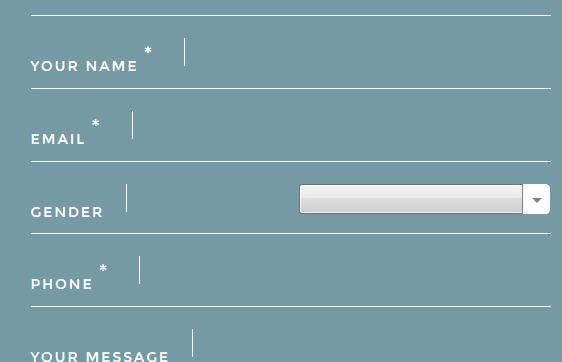field: (298, 183, 554, 216)
field_line: (27, 35, 553, 95), (26, 251, 551, 311), (25, 108, 555, 163)
